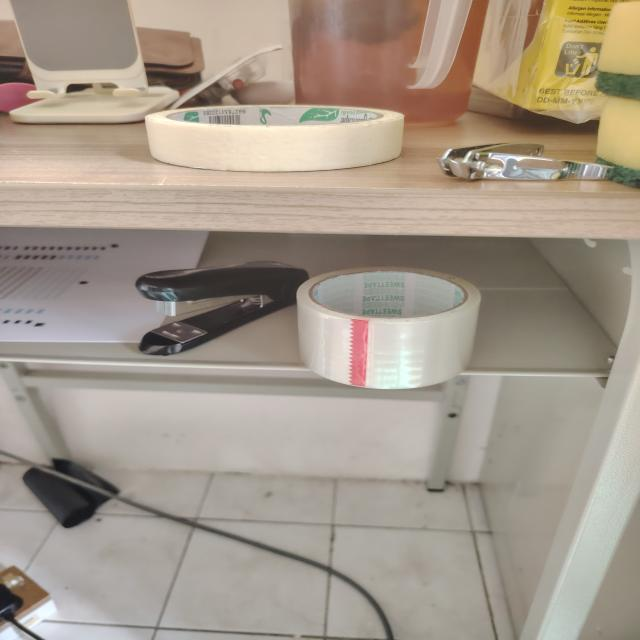stapler: (136, 261, 308, 356)
tape: (297, 267, 481, 389)
